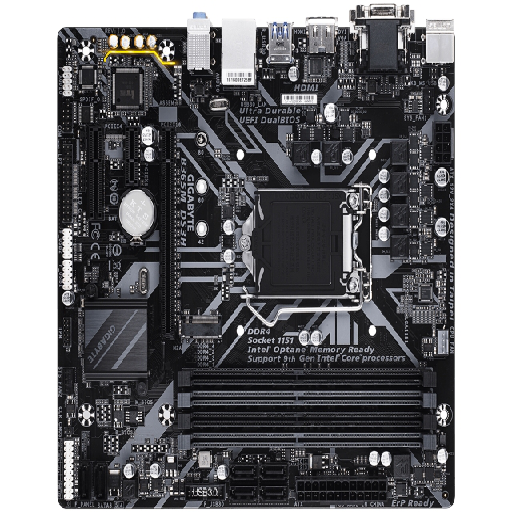CPU: (237, 185, 362, 300)
GPU: (152, 101, 182, 345)
MOTHERBOARD: (50, 11, 459, 512)
RAM: (174, 367, 442, 454)
SSD: (182, 311, 224, 340)
